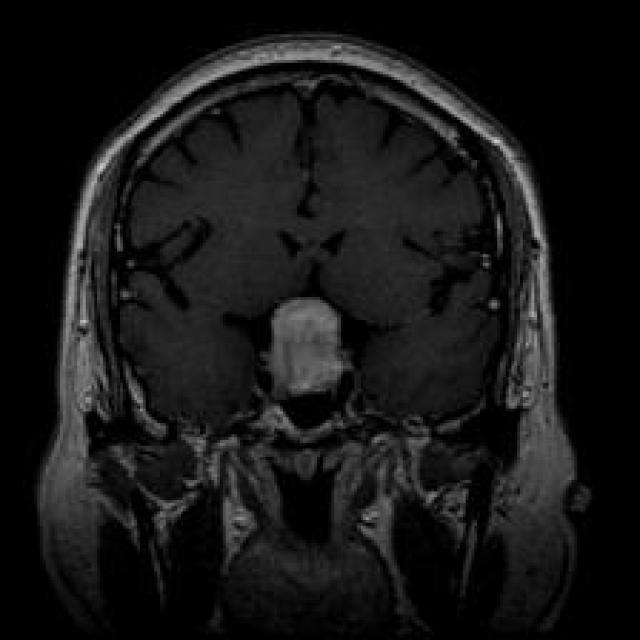pituitary_tumor: (258, 283, 368, 414)
